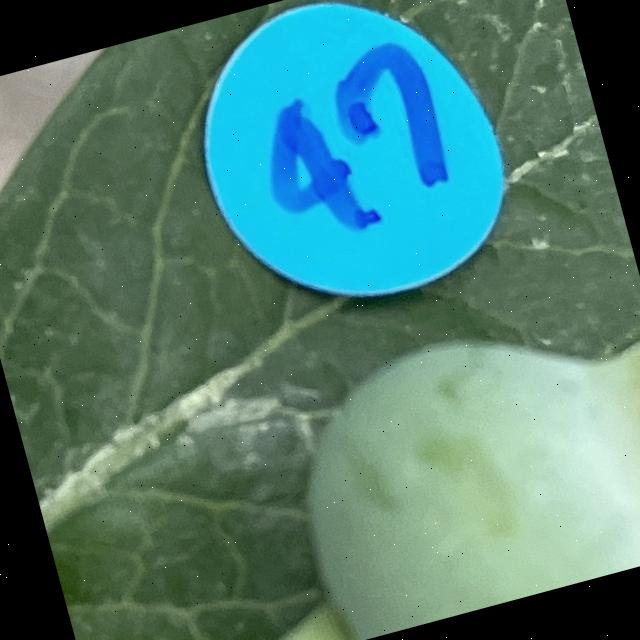Blueberries: (260, 281, 640, 640)
